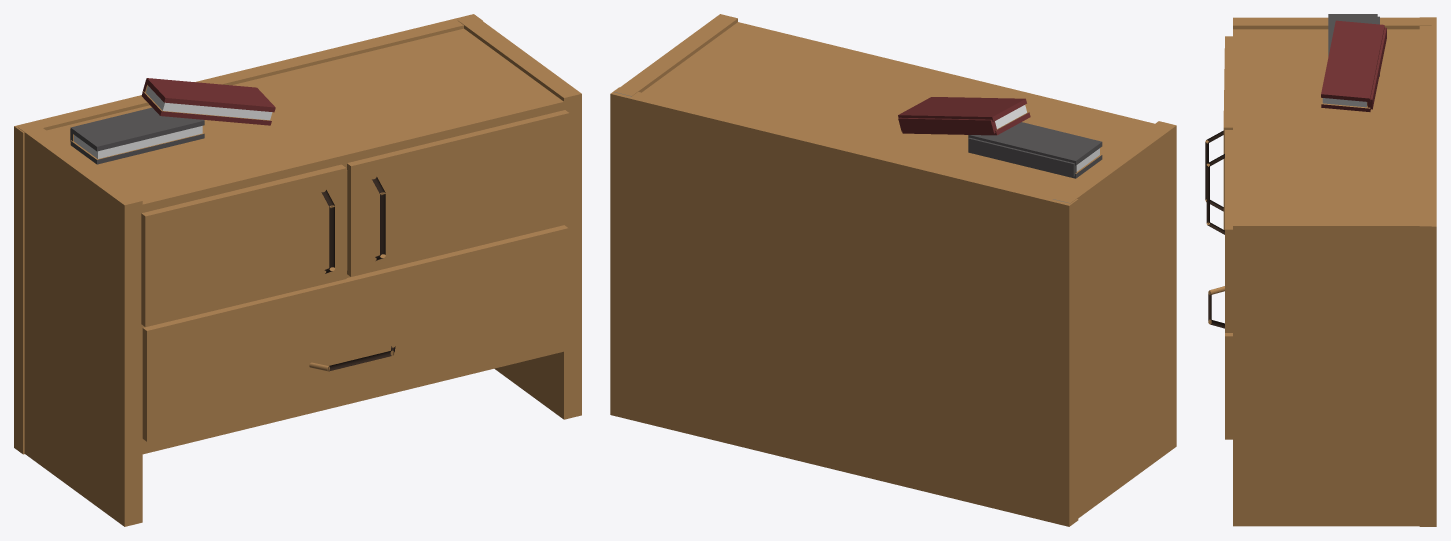
Rendered from desk.fbx.
The picture shows the model from 3 angles, left to right: view 1: azimuth 30°, elevation 25°; view 2: azimuth 150°, elevation 25°; view 3: azimuth 270°, elevation 25°; orthographic projection. The views are drawn at different scales.
Visible parts, largest first — view 1: Cube.003; view 2: Cube.003; view 3: Cube.003.
Boxes of the visible parts, x1,y1,x2,y2 form: Cube.003: [14, 14, 581, 526]; Cube.003: [610, 14, 1176, 526]; Cube.003: [1205, 14, 1436, 526].
Size of the model in its own units: 147 by 112 by 68.57.
